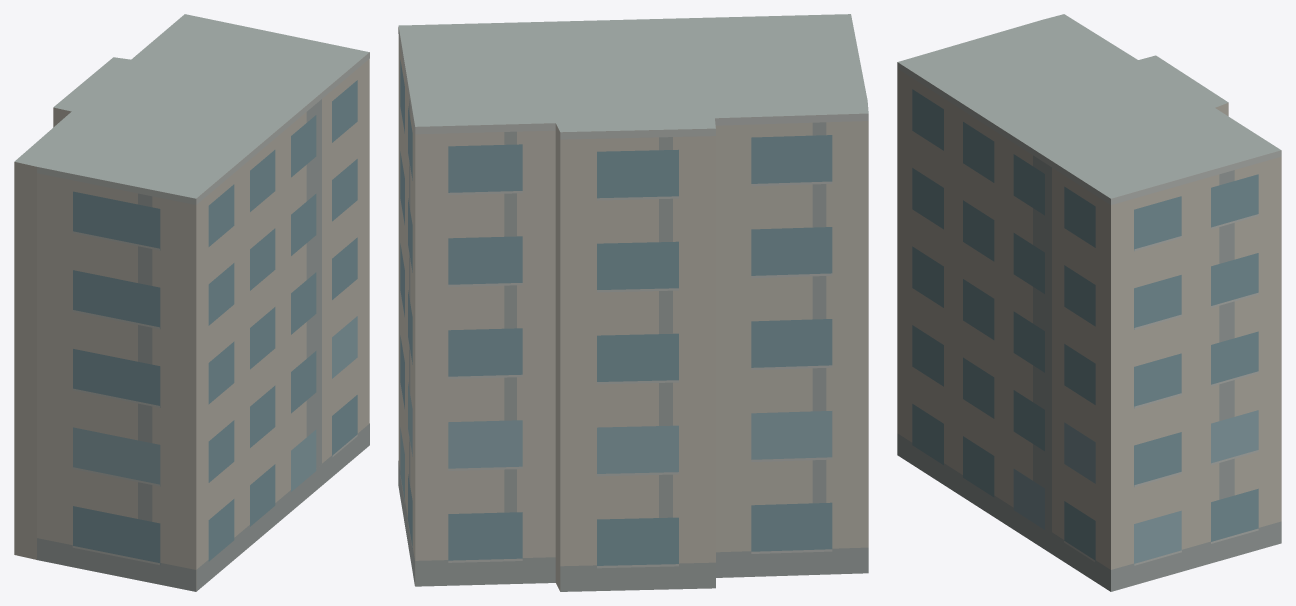
The model's file is survey-upis-32883370.glb.
3 views of the same model, side by side, from view 1: azimuth 30°, elevation 25°; view 2: azimuth 150°, elevation 25°; view 3: azimuth 270°, elevation 25° (orthographic). The views are drawn at different scales.
Parts seen in each view (by area): view 1: survey-upis-32883370.tmp; view 2: survey-upis-32883370.tmp; view 3: survey-upis-32883370.tmp.
Part boxes in pixels (x1,y1,x2,y2): survey-upis-32883370.tmp: (14, 14, 369, 591); survey-upis-32883370.tmp: (398, 14, 868, 591); survey-upis-32883370.tmp: (897, 14, 1281, 591).
Bounding box in the file's own units: 15.13 × 15 × 13.29.
